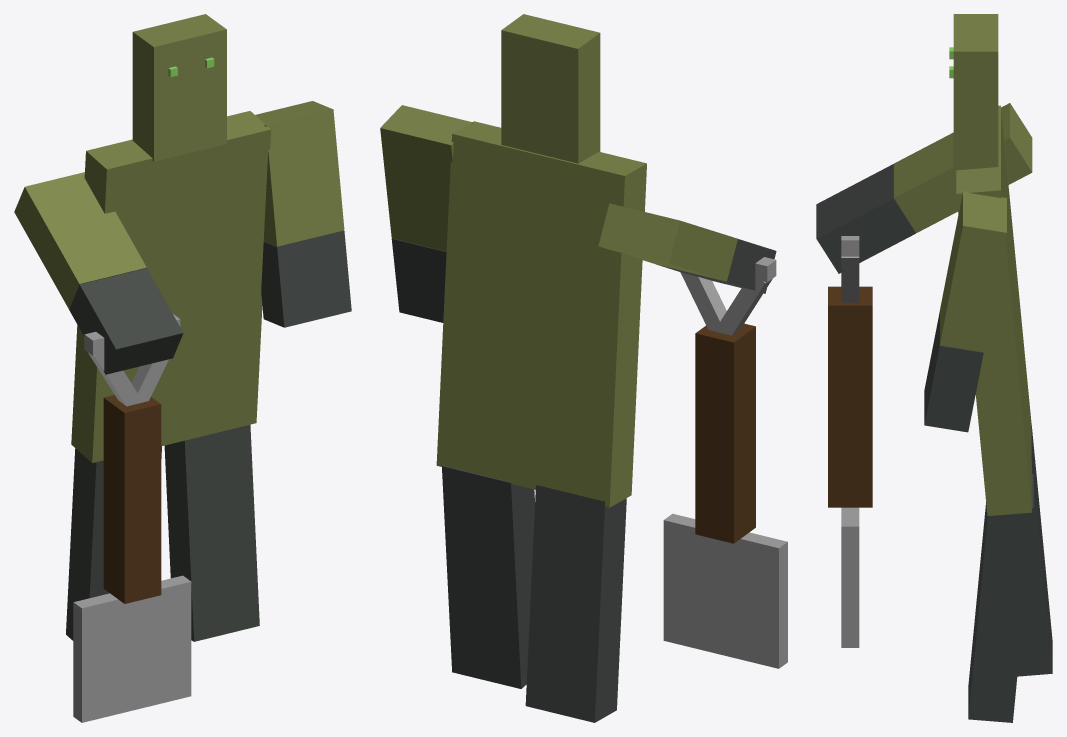
The model's file is GraveKeeper.fbx.
The picture shows the model from 3 angles, left to right: view 1: azimuth 30°, elevation 25°; view 2: azimuth 150°, elevation 25°; view 3: azimuth 270°, elevation 25°; orthographic projection. The views are drawn at different scales.
Visible parts, largest first — view 1: Cube.001, Cube.002, Cube.009, Cube.010, Cube.007, Cube.008, Cube.003, Cube.013; view 2: Cube.001, Cube.003, Cube.002, Cube.009, Cube.010, Cube.008, Cube.013, Cube.007; view 3: Cube.001, Cube.002, Cube.010, Cube.007, Cube.008, Cube.003, Cube.009, Cube.013.
Boxes of the visible parts, bbox=[...] form: Cube.001: bbox=[14, 14, 344, 462]; Cube.002: bbox=[164, 425, 259, 641]; Cube.009: bbox=[73, 575, 191, 722]; Cube.010: bbox=[103, 395, 161, 603]; Cube.007: bbox=[69, 268, 183, 374]; Cube.008: bbox=[261, 230, 351, 327]; Cube.003: bbox=[66, 446, 161, 640]; Cube.013: bbox=[84, 314, 180, 406]; Cube.001: bbox=[380, 14, 737, 507]; Cube.003: bbox=[525, 485, 626, 722]; Cube.002: bbox=[442, 465, 534, 688]; Cube.009: bbox=[663, 513, 787, 668]; Cube.010: bbox=[695, 323, 755, 543]; Cube.008: bbox=[391, 238, 446, 322]; Cube.013: bbox=[680, 257, 776, 335]; Cube.007: bbox=[657, 239, 776, 293]; Cube.001: bbox=[894, 14, 1032, 515]; Cube.002: bbox=[968, 474, 1033, 722]; Cube.010: bbox=[828, 286, 872, 507]; Cube.007: bbox=[816, 164, 915, 273]; Cube.008: bbox=[924, 311, 983, 432]; Cube.003: bbox=[1017, 425, 1052, 676]; Cube.009: bbox=[841, 507, 859, 647]; Cube.013: bbox=[841, 236, 859, 302].
Size of the model in its own units: 102 by 193 by 63.48.
